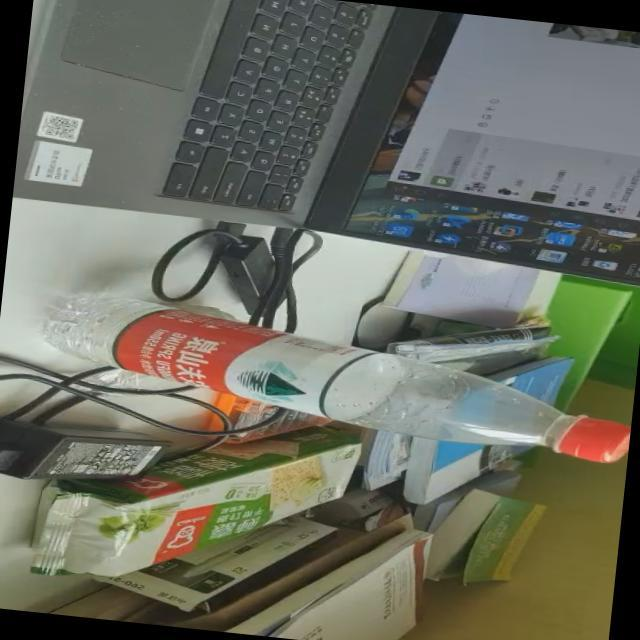good: (22, 281, 640, 469)
